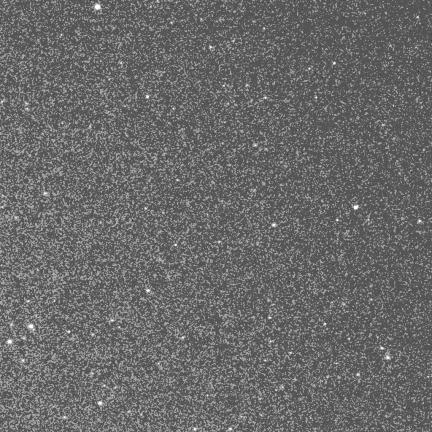blob: (95, 4, 102, 11), (29, 324, 34, 329), (7, 339, 12, 344), (272, 223, 277, 227), (353, 205, 358, 209), (269, 316, 273, 320), (264, 96, 268, 100), (98, 401, 102, 405), (253, 144, 257, 147), (336, 219, 340, 222), (386, 356, 390, 359), (333, 62, 337, 65), (146, 95, 149, 99), (146, 289, 150, 292), (308, 67, 311, 71), (418, 219, 421, 223), (174, 244, 178, 247), (324, 323, 327, 327), (315, 96, 318, 100), (67, 330, 70, 333), (357, 373, 360, 376), (22, 360, 25, 363), (111, 319, 114, 322)
